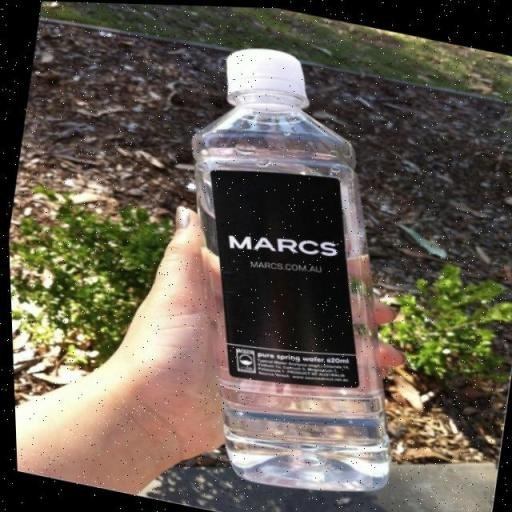plastic: (189, 47, 392, 495)
